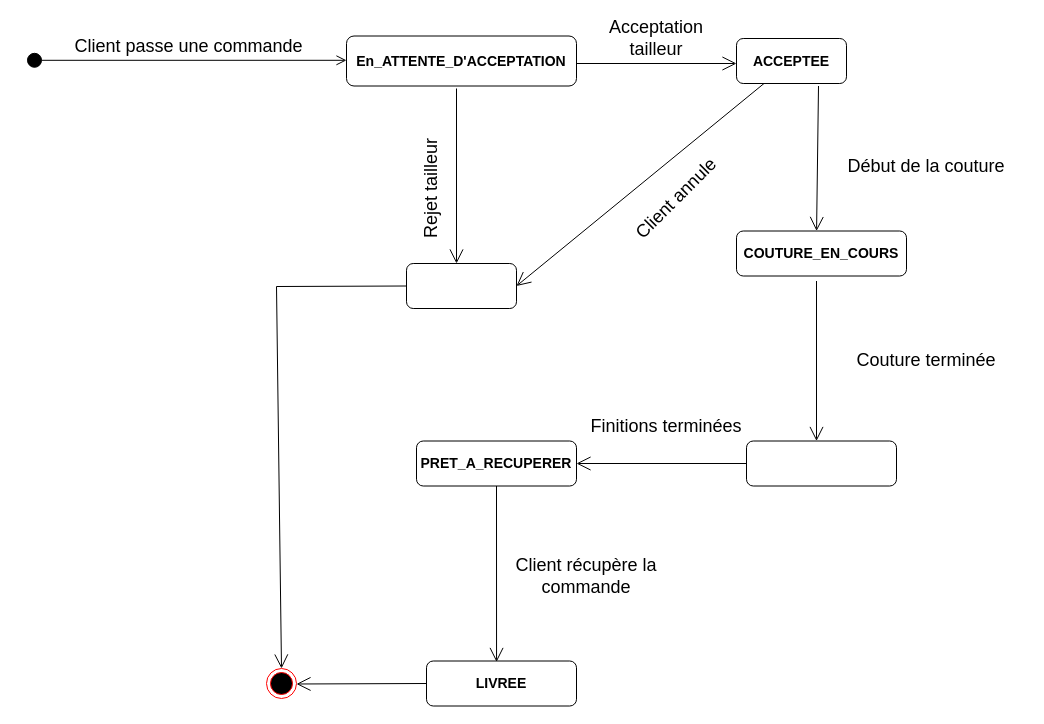
Some shapes in this 1044 by 724 pixel diagram are drawn without their labels. Here are the shapes that lost their labels. From the top down, the box of each, then its label:
(406, 262, 516, 308): ANNULEE
(746, 440, 896, 486): FINITIONS
